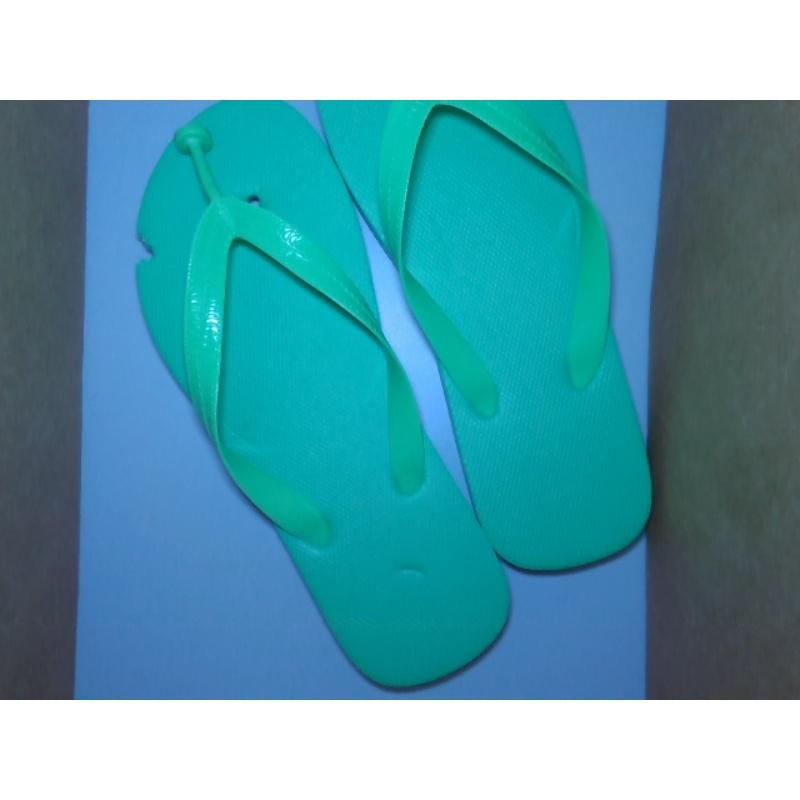chipped: (123, 214, 171, 287)
detached: (169, 117, 222, 178)
